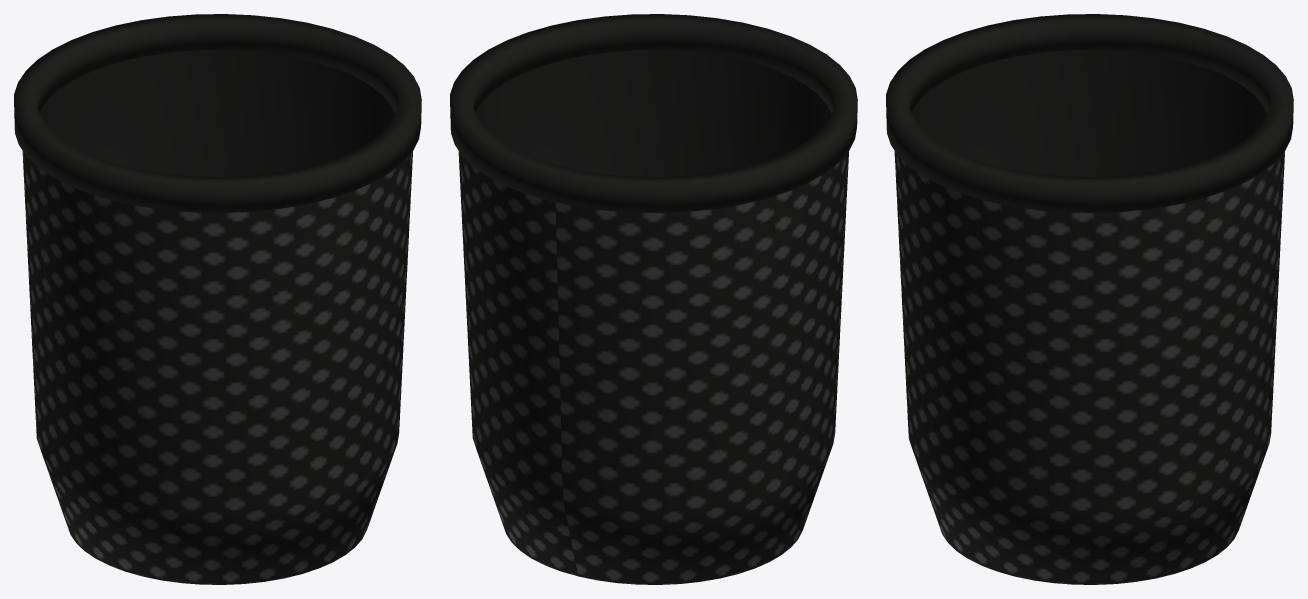
Rendered from PencilHolder.fbx.
3 renders of one model, left to right at view 1: azimuth 30°, elevation 25°; view 2: azimuth 150°, elevation 25°; view 3: azimuth 270°, elevation 25°, orthographic.
Parts seen in each view (by area): view 1: Cylinder.001; view 2: Cylinder.001; view 3: Cylinder.001.
Boxes of the visible parts, x1=… form: Cylinder.001: x1=14, y1=14, x2=421, y2=584; Cylinder.001: x1=450, y1=14, x2=857, y2=584; Cylinder.001: x1=886, y1=14, x2=1293, y2=584.
Size of the model in its own units: 271 by 308 by 271.
